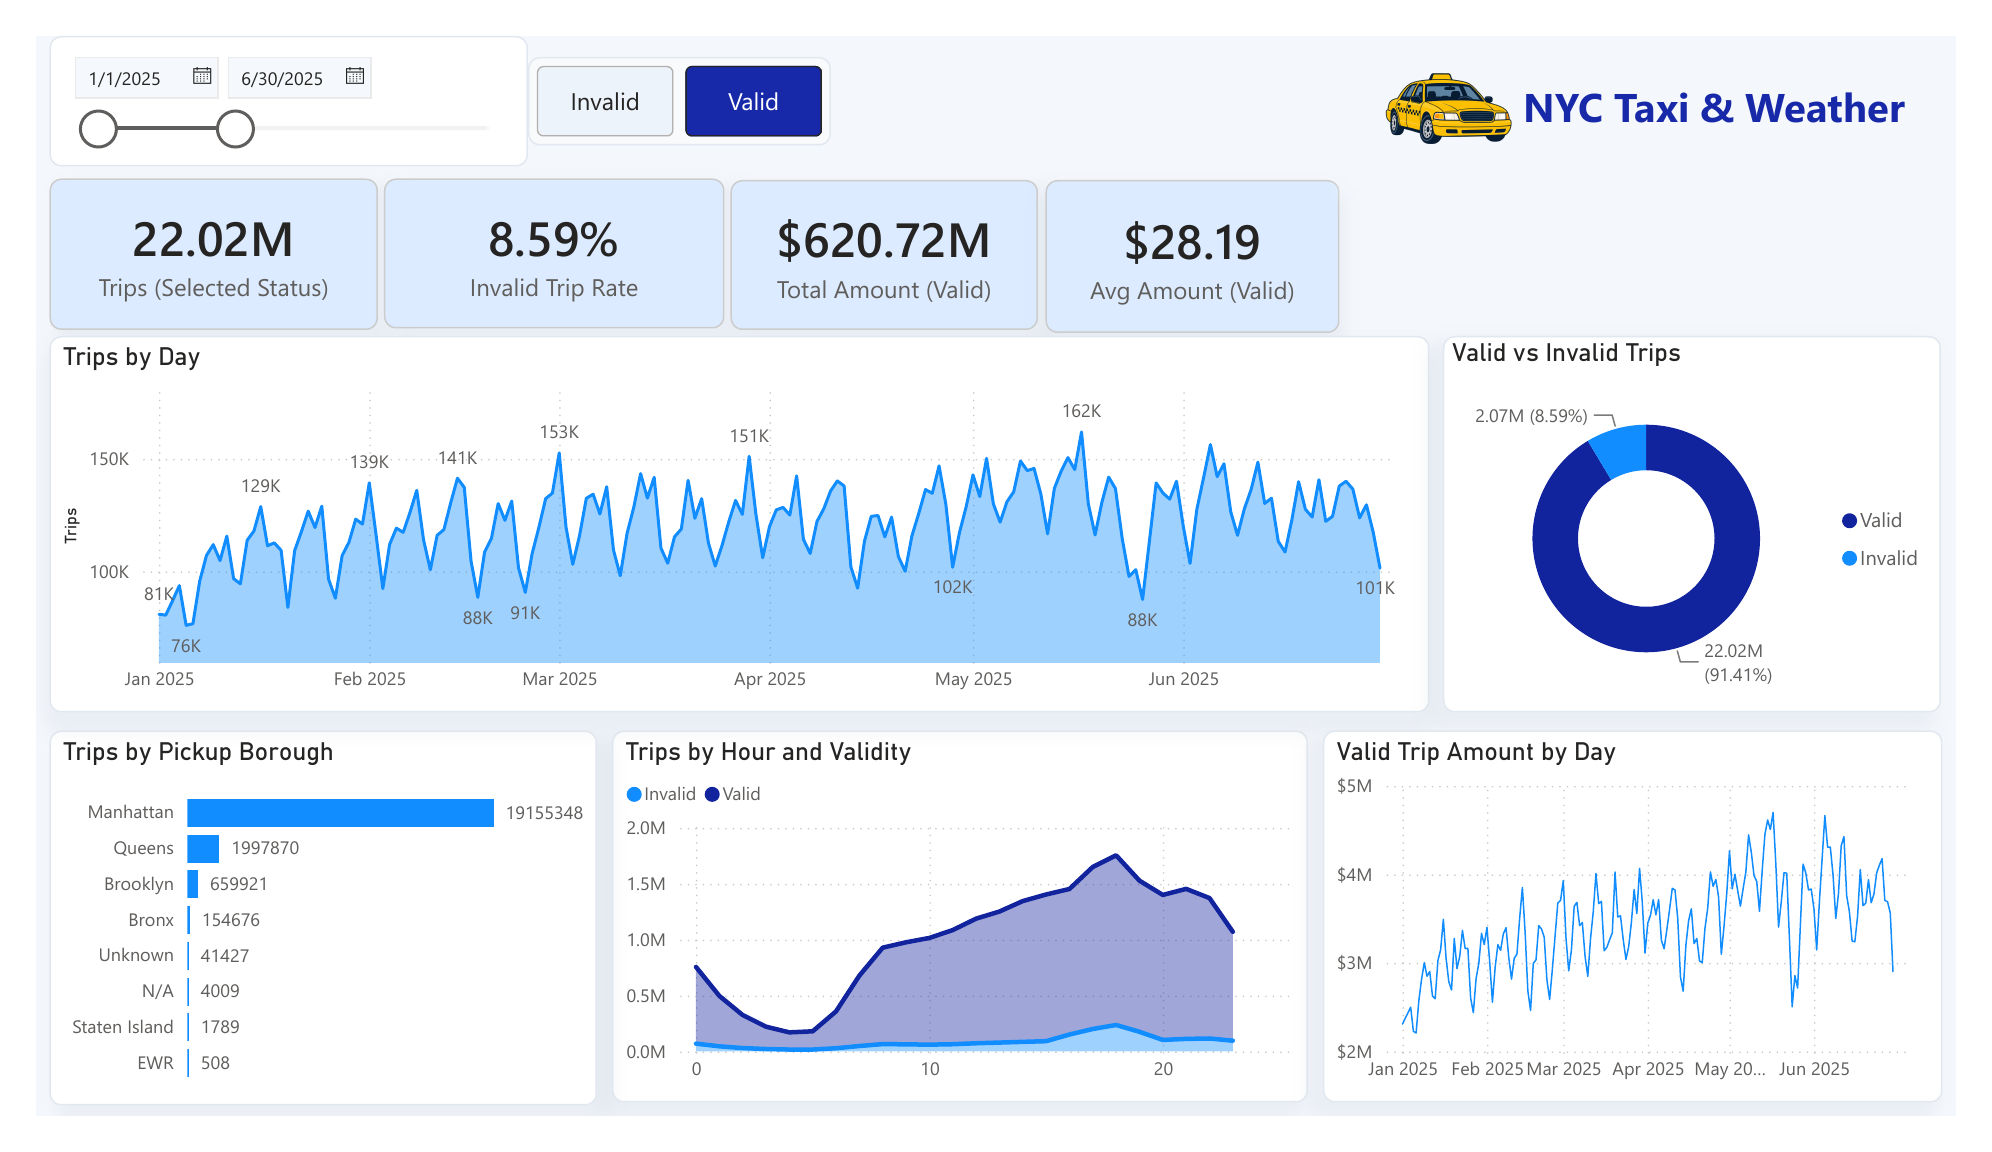

The page's visual inventory and layout, read from the dashboard file:
{"tool":"powerbi","page":{"name":"Taxi Overview","canvas":[1280,720],"ordinal":0},"visuals":[{"type":"slicer","fields":{"Values":["mart_taxi_weather_hourly.analysis_date"]},"box":[8.9,0,318.7,86.7],"z":0},{"type":"cardVisual","fields":{"Data":["Sum(mart_taxi_routes_hourly.trip_count)"]},"box":[8.9,95,219.3,100.7],"z":1000},{"type":"advancedSlicerVisual","fields":{"Values":["trip_status.trip_status"]},"box":[327.6,14,202.7,58.6],"z":2000},{"type":"stackedAreaChart","title":"Trips by Hour and Validity","fields":{"Category":["mart_taxi_weather_hourly.hour_of_day"],"Series":["trip_status.trip_status"],"Y":["Sum(mart_taxi_routes_hourly.trip_count)"]},"box":[383.7,462.8,464.1,248.6],"z":3000},{"type":"barChart","title":"Trips by Pickup Borough","fields":{"Category":["taxi_zone_lookup.borough"],"Y":["Sum(mart_taxi_routes_hourly.trip_count)"]},"box":[8.9,462.8,364.6,249.9],"z":4000},{"type":"cardVisual","fields":{"Data":["mart_taxi_routes_hourly.Invalid Trip Rate"]},"box":[232,95,226.9,100],"z":5000},{"type":"cardVisual","fields":{"Data":["mart_taxi_routes_hourly.Valid Trip Amount"]},"box":[463,95.6,205.3,100.7],"z":6000},{"type":"cardVisual","fields":{"Data":["mart_taxi_routes_hourly.Avg Valid Trip Amount"]},"box":[673,95.6,196.3,102],"z":7000},{"type":"areaChart","title":"Trips by Day","fields":{"Category":["mart_taxi_weather_hourly.analysis_date"],"Y":["Sum(mart_taxi_routes_hourly.trip_count)"]},"box":[8.9,200.2,920.5,251.2],"z":8000},{"type":"donutChart","title":"Valid vs Invalid Trips","fields":{"Category":["trip_status.trip_status"],"Y":["Sum(mart_taxi_routes_hourly.trip_count)"]},"box":[938.3,200.2,331.5,251.2],"z":9000},{"type":"lineChart","title":"Valid Trip Amount by Day","fields":{"Category":["mart_taxi_weather_hourly.analysis_date"],"Y":["mart_taxi_routes_hourly.Valid Trip Amount"]},"box":[858,462.8,413.1,248.6],"z":10000},{"type":"image","box":[869.5,0,145.3,95.6],"z":11000},{"type":"textbox","box":[980.4,24.2,277.9,48.4],"z":12000}]}

Visuals, with their boxes in screenshot pixels (x1, y1, x2, y2), scaled from the page's 1280x720 canvas onto the 1992x1152 screenshot:
slicer - mart_taxi_weather_hourly.analysis_date: BBox(14, 0, 510, 139)
cardVisual - Sum(mart_taxi_routes_hourly.trip_count): BBox(14, 152, 355, 313)
advancedSlicerVisual - trip_status.trip_status: BBox(510, 22, 825, 116)
"Trips by Hour and Validity" stackedAreaChart: BBox(597, 740, 1319, 1138)
"Trips by Pickup Borough" barChart: BBox(14, 740, 581, 1140)
cardVisual - mart_taxi_routes_hourly.Invalid Trip Rate: BBox(361, 152, 714, 312)
cardVisual - mart_taxi_routes_hourly.Valid Trip Amount: BBox(721, 153, 1040, 314)
cardVisual - mart_taxi_routes_hourly.Avg Valid Trip Amount: BBox(1047, 153, 1353, 316)
"Trips by Day" areaChart: BBox(14, 320, 1446, 722)
"Valid vs Invalid Trips" donutChart: BBox(1460, 320, 1976, 722)
"Valid Trip Amount by Day" lineChart: BBox(1335, 740, 1978, 1138)
image: BBox(1353, 0, 1579, 153)
textbox: BBox(1526, 39, 1958, 116)
